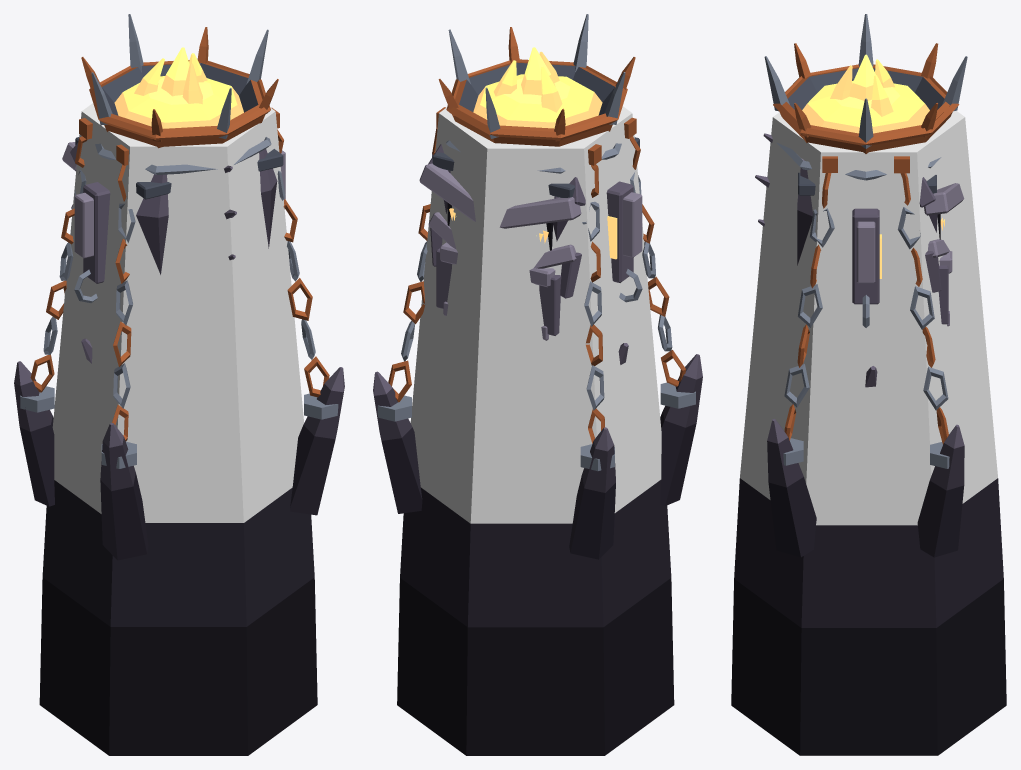
Rendered from volcanic_obsidian_ember_totem.glb.
The picture shows the model from 3 angles, left to right: view 1: azimuth 30°, elevation 25°; view 2: azimuth 150°, elevation 25°; view 3: azimuth 270°, elevation 25°; orthographic projection.
Visible parts, largest first — view 1: volcanic_obsidian_ember_totem, col_embertotem_base; view 2: volcanic_obsidian_ember_totem, col_embertotem_base; view 3: volcanic_obsidian_ember_totem, col_embertotem_base.
Boxes of the visible parts, box(x1,y1,x2,y2) form: volcanic_obsidian_ember_totem: box(14, 14, 344, 755); col_embertotem_base: box(44, 103, 303, 755); volcanic_obsidian_ember_totem: box(373, 14, 702, 755); col_embertotem_base: box(410, 106, 673, 755); volcanic_obsidian_ember_totem: box(731, 14, 1006, 755); col_embertotem_base: box(740, 110, 997, 755).
Bounding box in the file's own units: 3.82 × 10.02 × 3.84.
